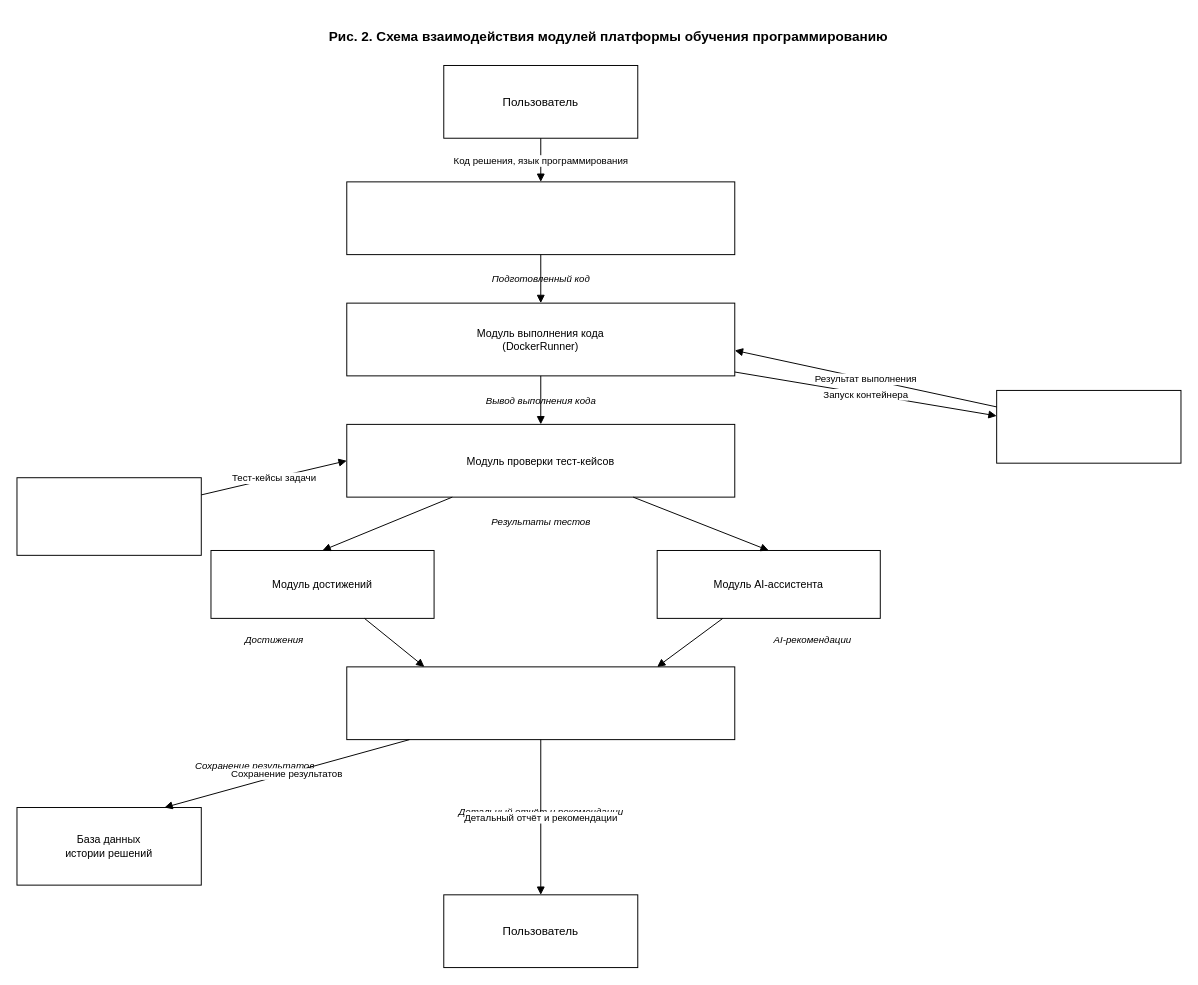
Some shapes in this 1198 by 985 pixel diagram are drawn without their labels. The shapes that lost their labels are listed below. From the top down, each one's centre as x and y in pixels, then its label:
point 540,218: Модуль предобработки (транспиляция, определение языка)
point 1088,426: Docker Engine
point 108,516: База данных задач и тест-кейсов
point 540,703: Модуль формирования отчёта
